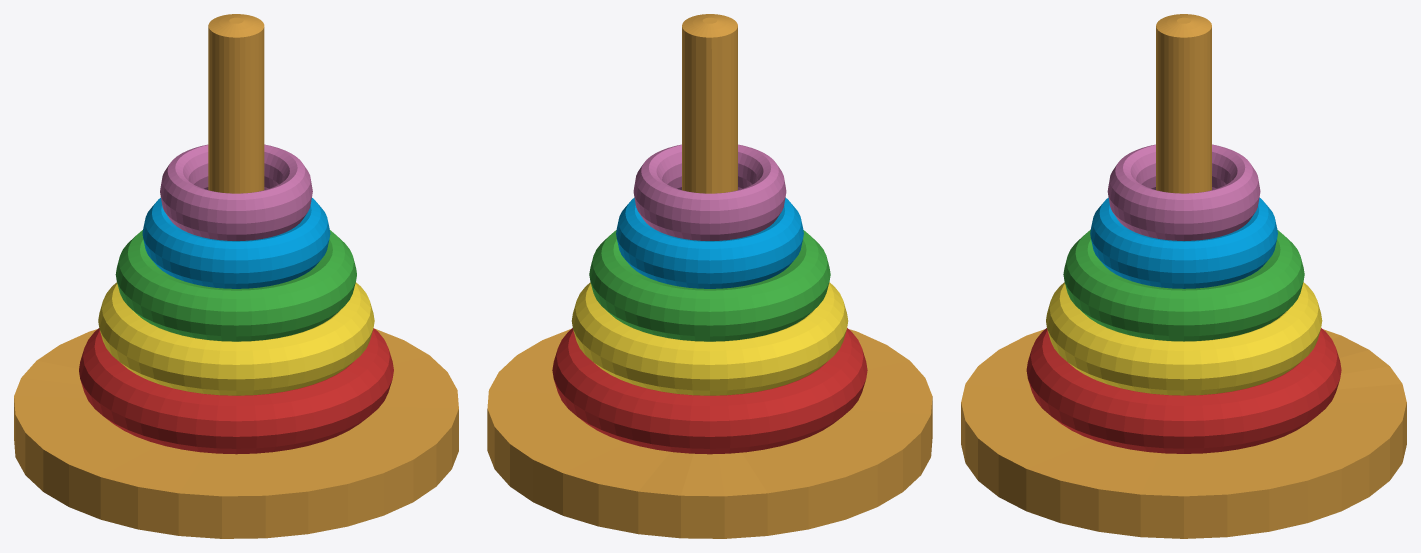
The model's file is RingsToy.fbx.
The picture shows the model from 3 angles, left to right: view 1: azimuth 30°, elevation 25°; view 2: azimuth 150°, elevation 25°; view 3: azimuth 270°, elevation 25°; orthographic projection.
Visible parts, largest first — view 1: ToyBody, Ring5, Ring3, Ring2, Ring4, Ring1; view 2: ToyBody, Ring5, Ring3, Ring2, Ring4, Ring1; view 3: ToyBody, Ring5, Ring3, Ring2, Ring4, Ring1.
Part boxes in pixels (x1,y1,x2,y2): ToyBody: [14, 14, 458, 538]; Ring5: [79, 328, 393, 454]; Ring3: [98, 282, 374, 395]; Ring2: [115, 230, 356, 341]; Ring4: [160, 144, 312, 240]; Ring1: [142, 197, 330, 288]; ToyBody: [487, 14, 932, 538]; Ring5: [552, 328, 867, 454]; Ring3: [571, 282, 848, 395]; Ring2: [589, 230, 830, 341]; Ring4: [633, 144, 786, 240]; Ring1: [616, 197, 803, 288]; ToyBody: [961, 14, 1406, 538]; Ring5: [1026, 328, 1341, 453]; Ring3: [1046, 282, 1322, 395]; Ring2: [1063, 230, 1304, 341]; Ring4: [1107, 144, 1260, 240]; Ring1: [1090, 197, 1277, 288].
Bounding box in the file's own units: 172 × 180 × 172.
